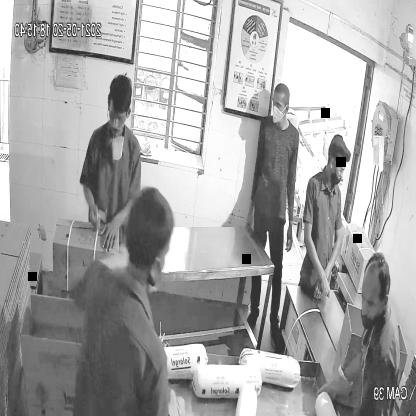goggles: (105, 106, 131, 132), (326, 155, 350, 181)
no_goggles: (268, 96, 294, 114)
